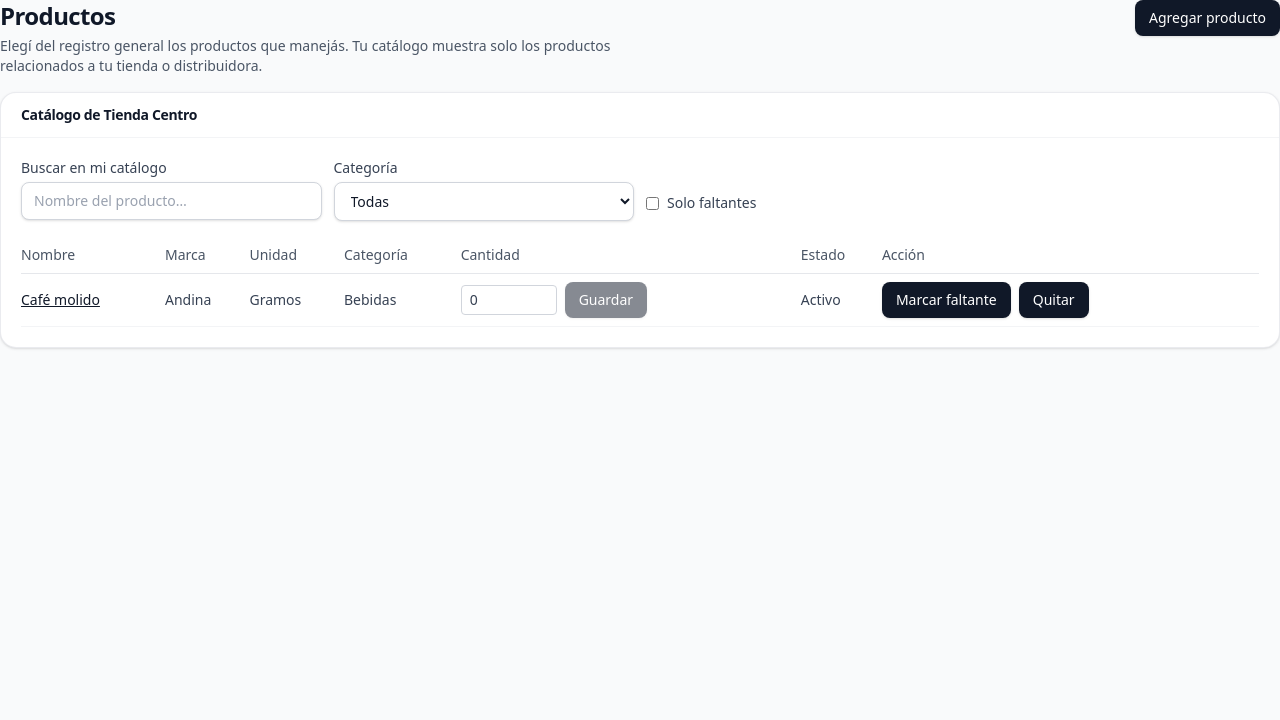
Test case: ProductsPage (0019 · catálogo por entidad) › S2: el botón del header abre el registro y agregar suma el producto
Click the button "Agregar producto" at (1208, 18), box [1135,0,1279,36]
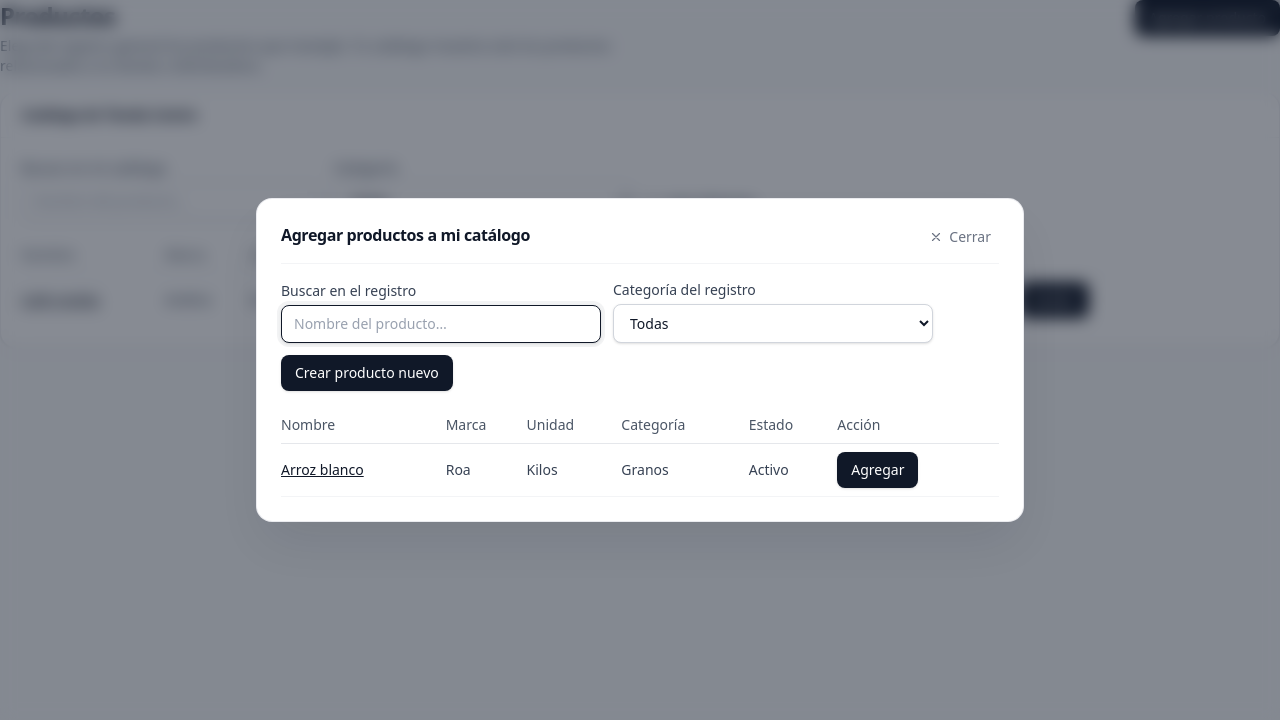
Click the button "Agregar" at (878, 470), box [837,452,918,488]
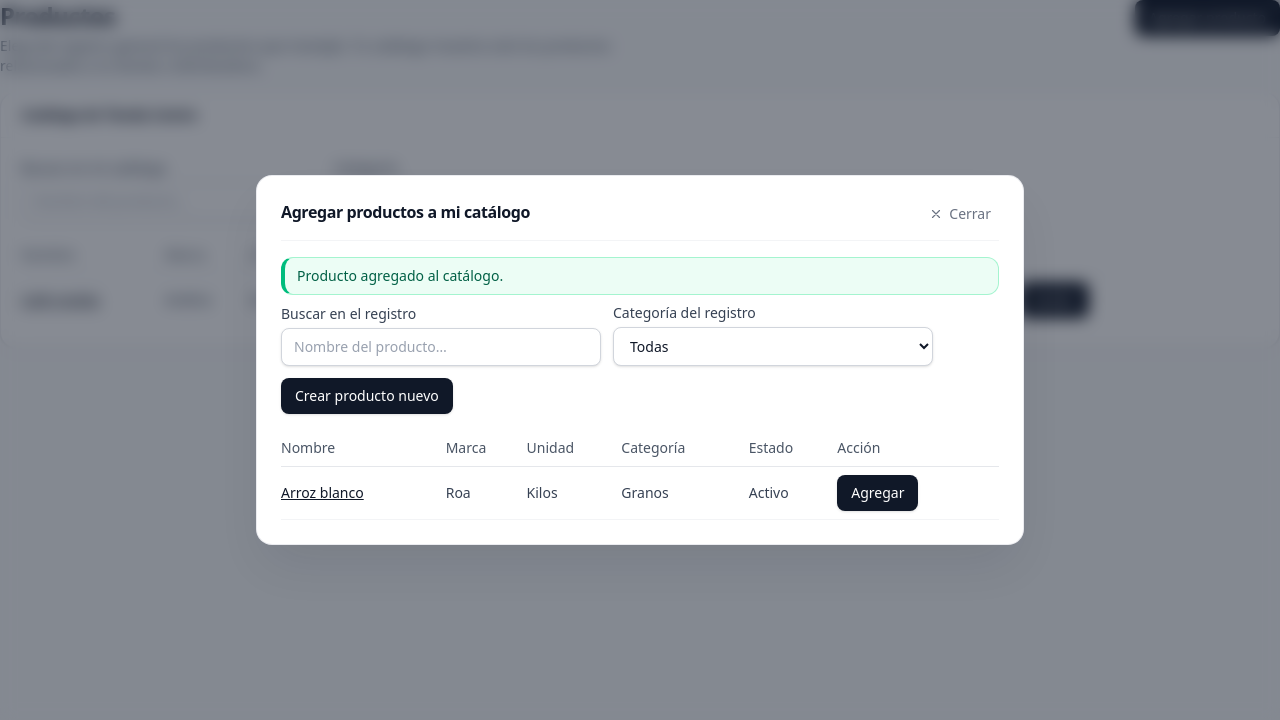
Check: the text "Producto agregado al catálogo." is shown, box [281,257,999,295]
